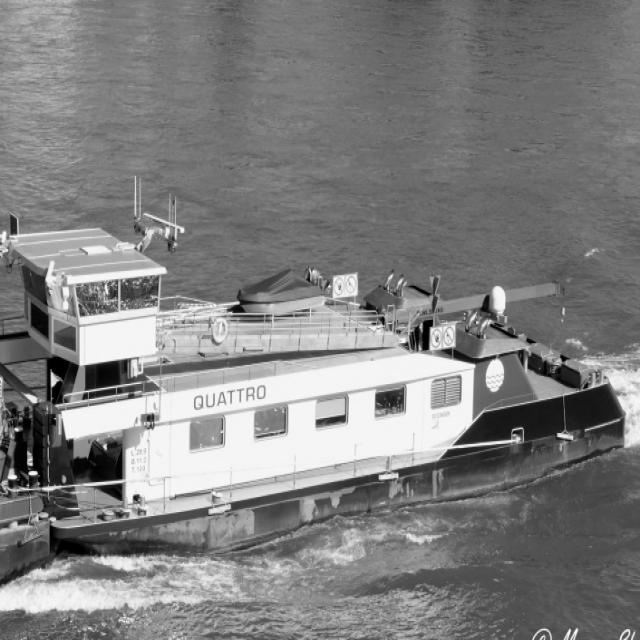tugboat: (1, 197, 633, 583)
